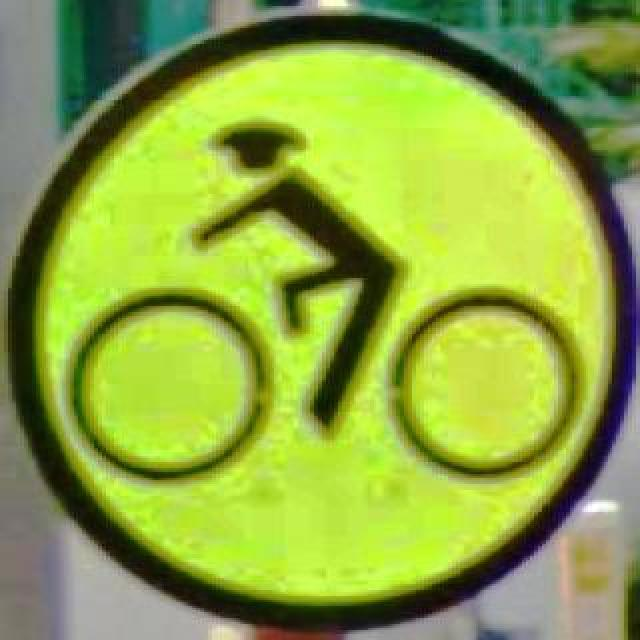bike lane: (8, 6, 636, 628)
